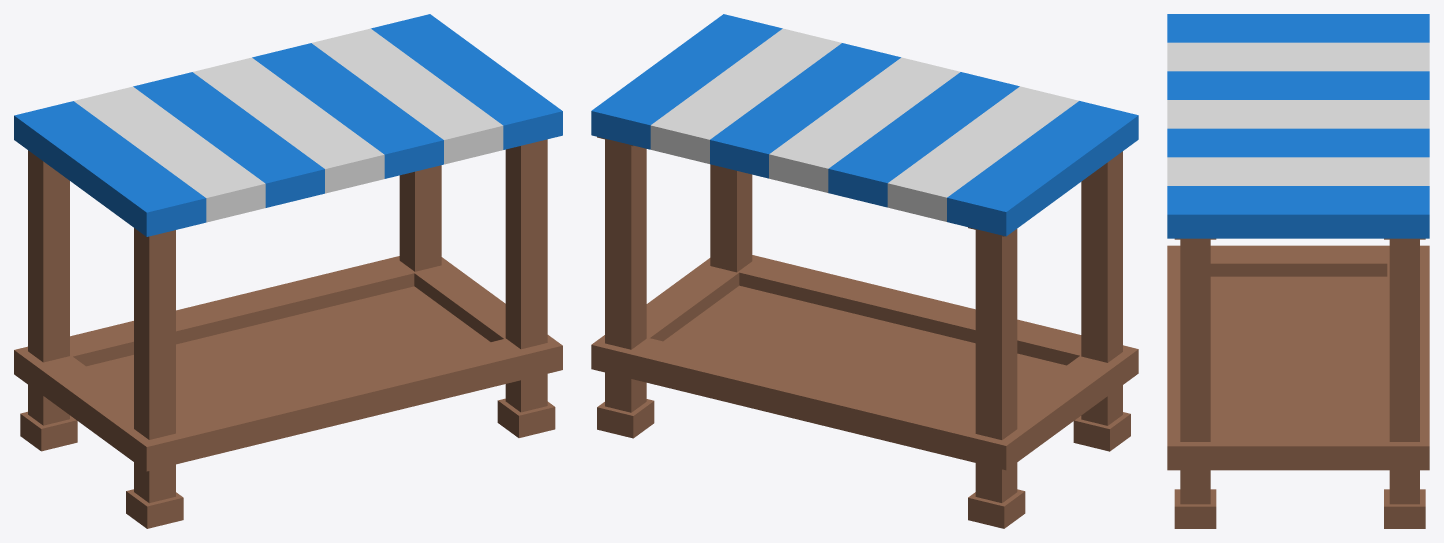
The model's file is market stall2.fbx.
3 renders of one model, left to right at view 1: azimuth 30°, elevation 25°; view 2: azimuth 150°, elevation 25°; view 3: azimuth 270°, elevation 25°, orthographic.
Visible parts, largest first — view 1: Cube; view 2: Cube; view 3: Cube.
Boxes of the visible parts, box(x1,y1,x2,y2) form: Cube: box(14, 14, 562, 528); Cube: box(591, 14, 1138, 528); Cube: box(1167, 14, 1429, 528).
Bounding box in the file's own units: 1687 × 1240 × 932.
